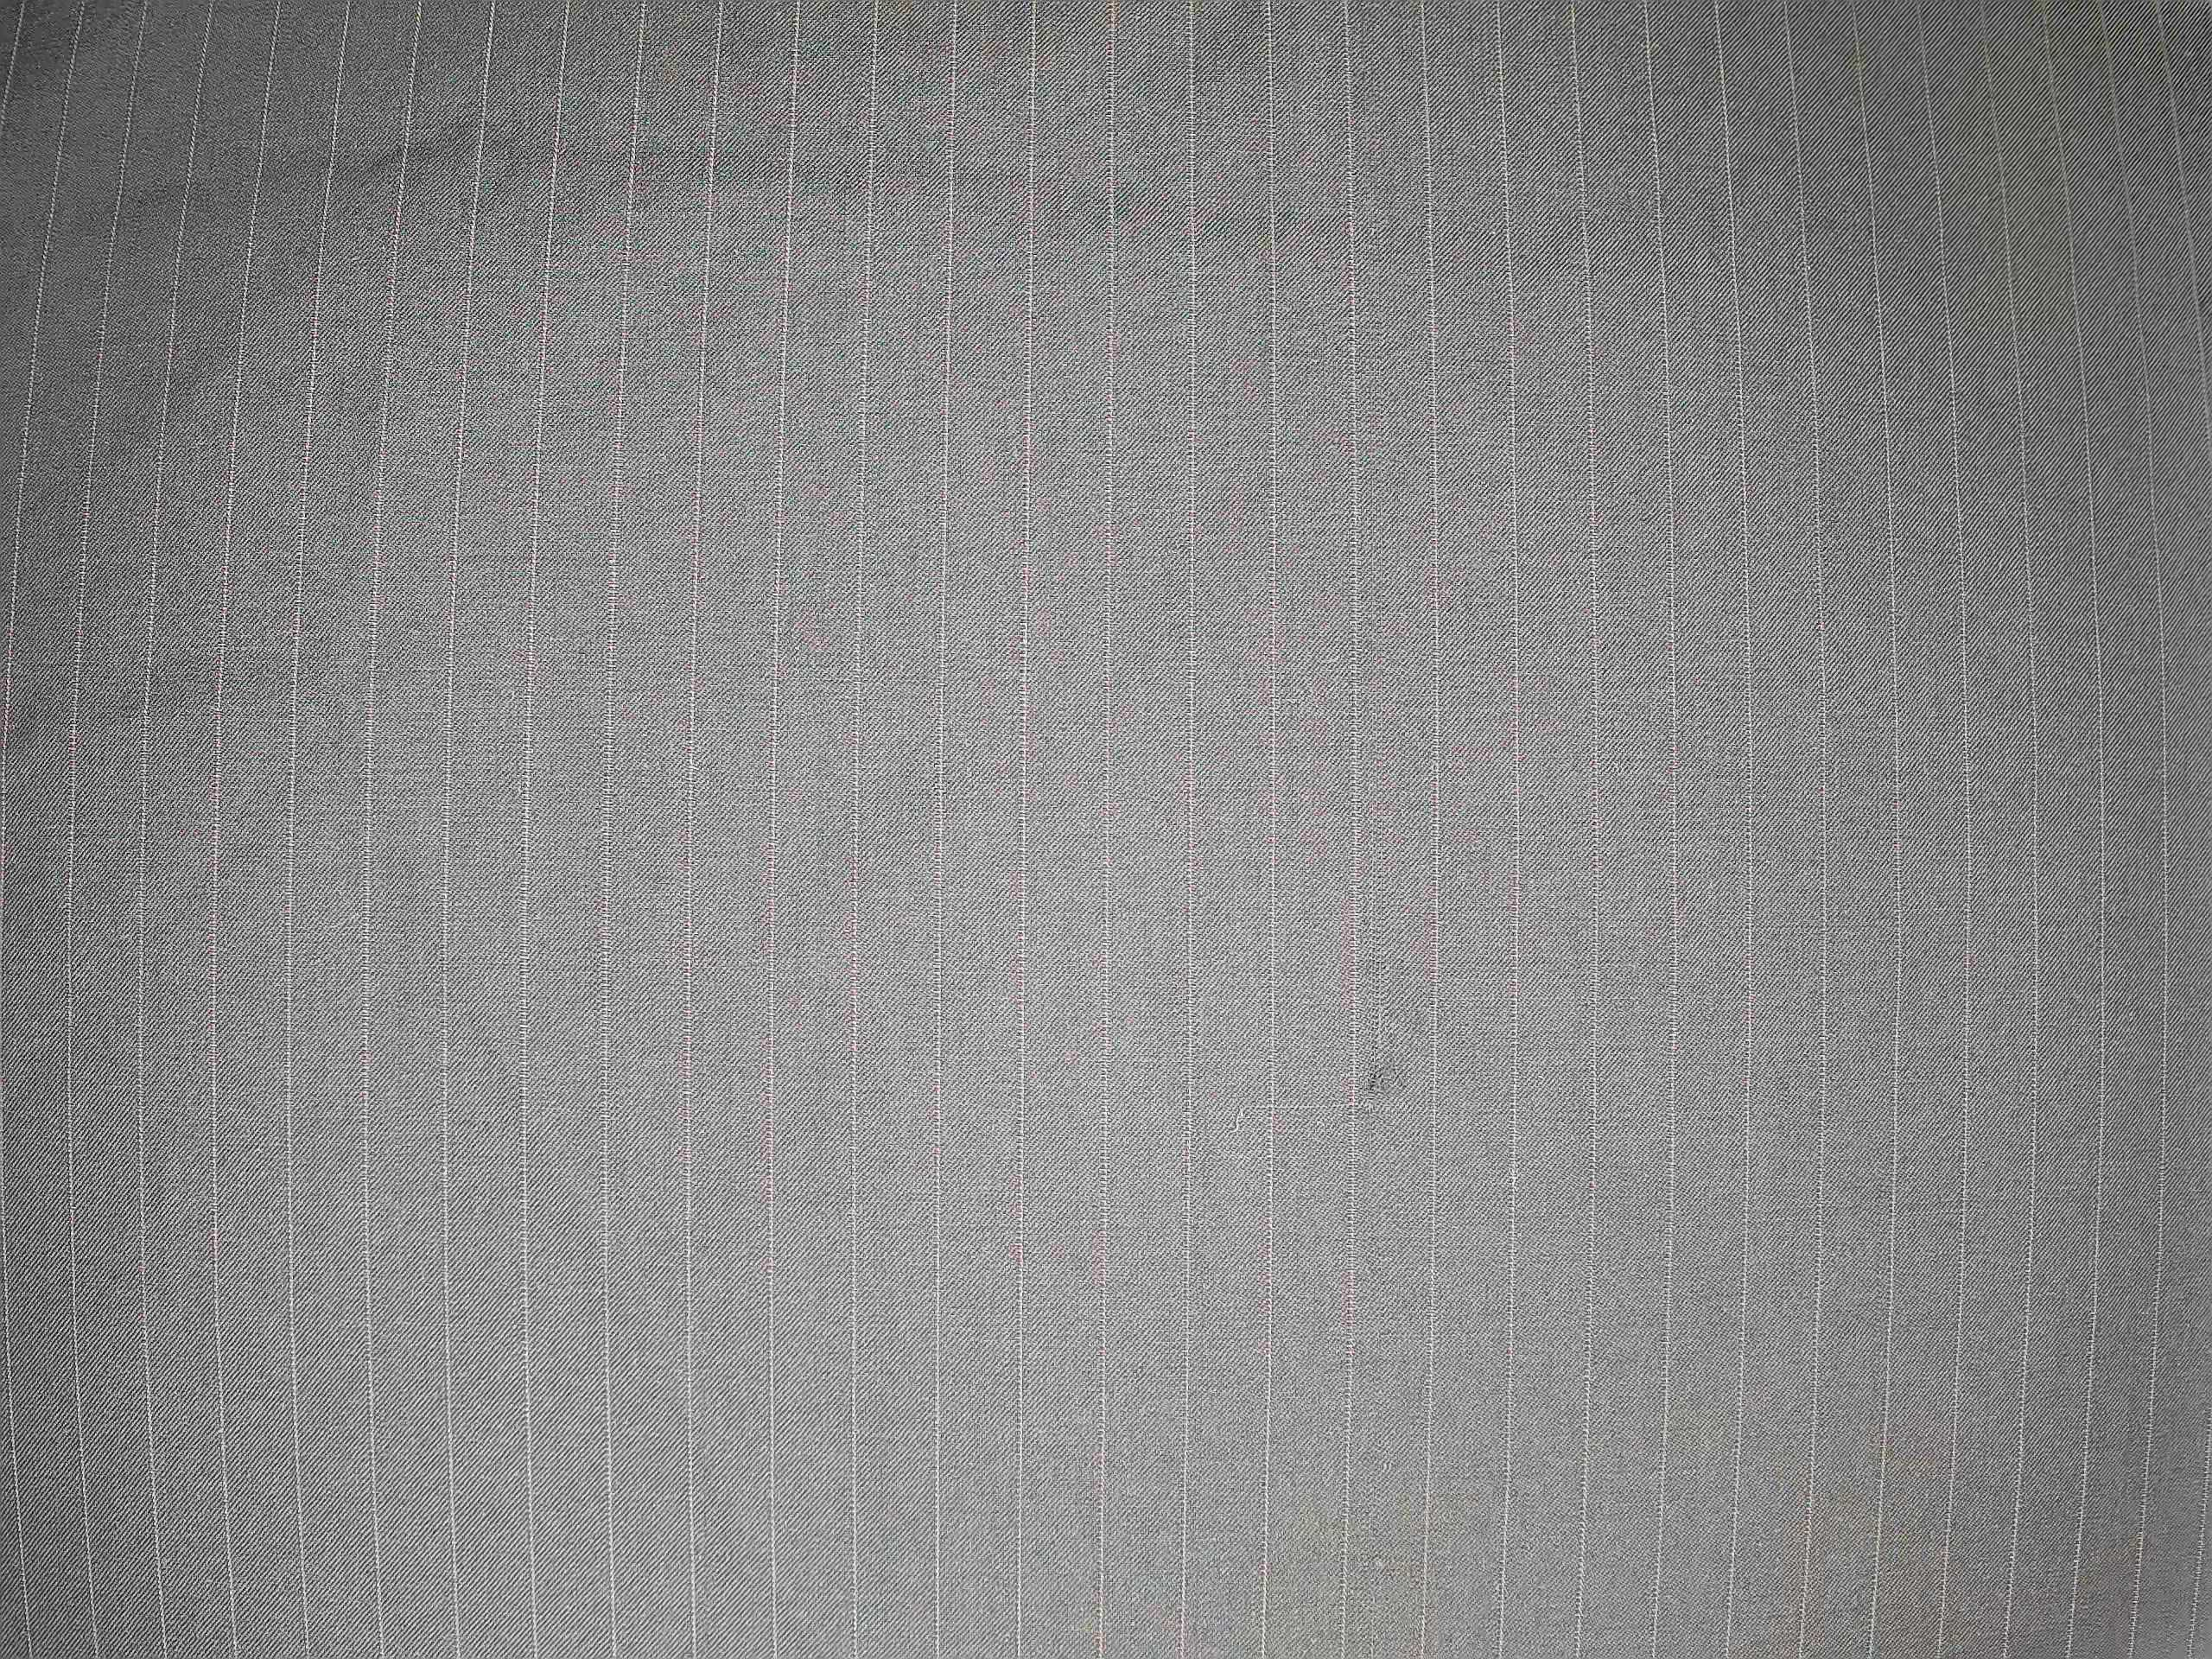hanging-warp: (1350, 19, 1407, 1568)
